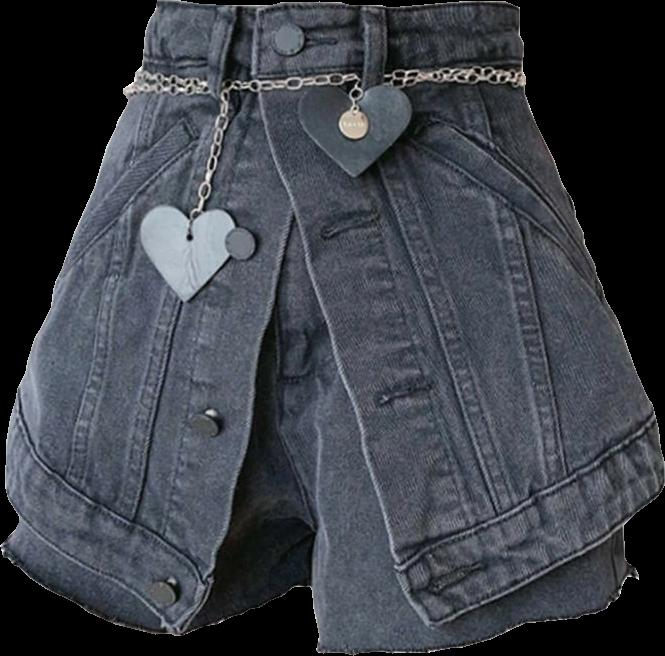Hemline: (255, 92, 664, 631), (2, 196, 291, 627), (308, 567, 636, 655), (0, 544, 312, 633)
Pantleg: (257, 1, 664, 653), (0, 0, 307, 635)
Waistline: (140, 64, 521, 86), (153, 0, 511, 11)
